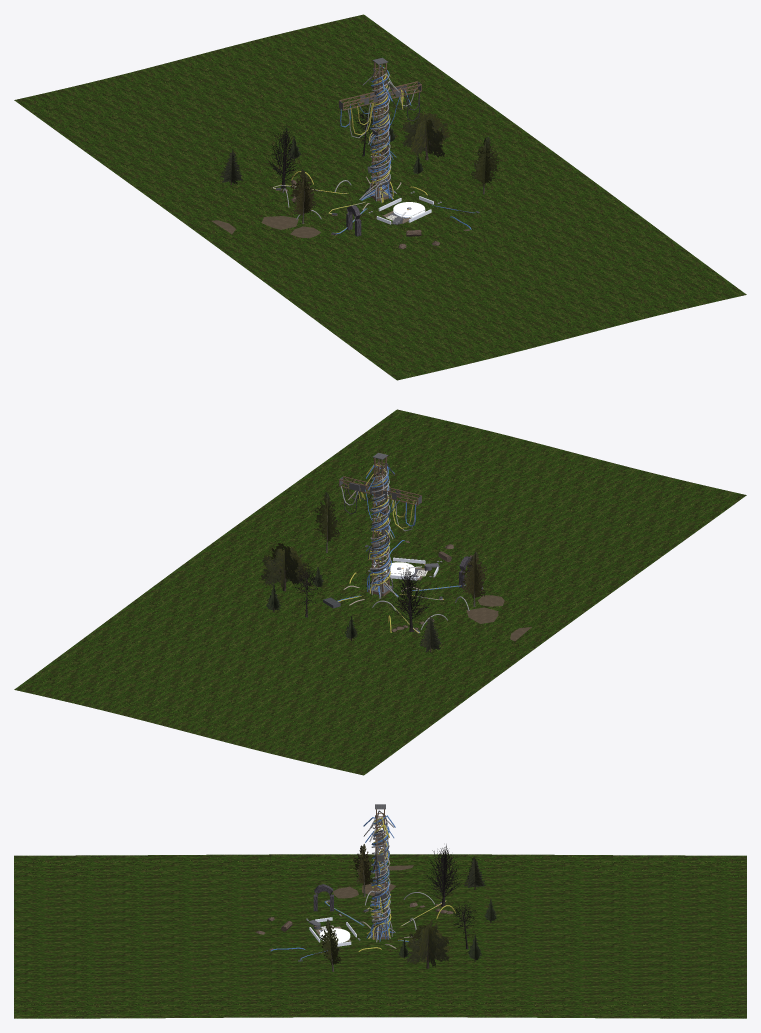
The model's file is light.glb.
3 renders of one model, top to bottom at view 1: azimuth 30°, elevation 25°; view 2: azimuth 150°, elevation 25°; view 3: azimuth 270°, elevation 25°, orthographic. The views are drawn at different scales.
Visible parts, largest first — view 1: Meadow_Floor, Cross_Frame, RealTree_big_live_east, RealTree_mid_east, RealTree_big_dead_west, RealTree_mid_west; view 2: Meadow_Floor, Cross_Frame, RealTree_big_live_east, RealTree_big_dead_west, RealTree_mid_west, RealTree_mid_east; view 3: Meadow_Floor, RealTree_big_live_east, RealTree_big_dead_west, Cross_Frame, RealTree_mid_east, RealTree_mid_west, RealTree_dead_north, RealTree_mid_nw.
Boxes of the visible parts, x1,y1,x2,y2 form: Meadow_Floor: (14,14,746,380); Cross_Frame: (339,62,421,201); RealTree_big_live_east: (402,112,449,160); RealTree_mid_east: (471,136,499,194); RealTree_big_dead_west: (266,125,299,188); RealTree_mid_west: (290,169,316,223); Meadow_Floor: (14,409,746,775); Cross_Frame: (339,457,421,596); RealTree_big_live_east: (261,542,308,591); RealTree_big_dead_west: (392,567,431,631); RealTree_mid_west: (462,552,487,606); RealTree_mid_east: (314,492,339,552); Meadow_Floor: (14,854,746,1018); RealTree_big_live_east: (406,920,449,968); RealTree_big_dead_west: (425,844,462,907); Cross_Frame: (371,809,389,939); RealTree_mid_east: (320,919,341,971); RealTree_mid_west: (353,844,373,896); RealTree_dead_north: (451,902,475,949); RealTree_mid_nw: (464,856,485,889).
Size of the model in its own units: 49.07 by 18.63 by 93.03.
Materials: 44 (30 with a texture image).
